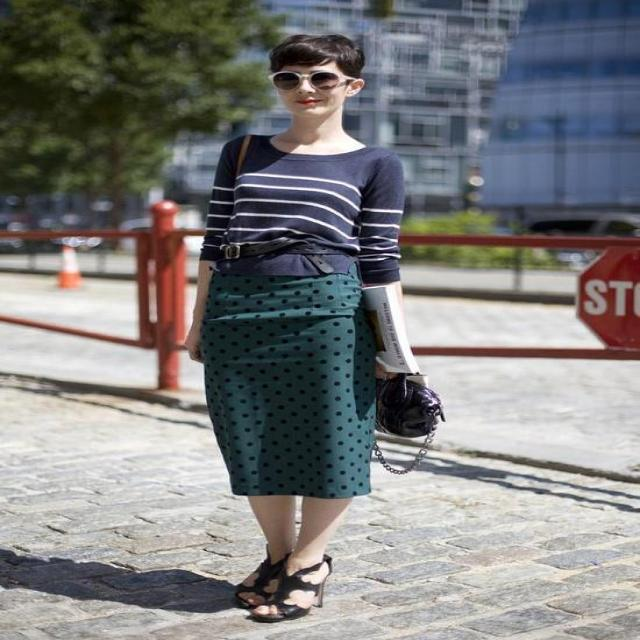Tshirt: (198, 134, 405, 282)
skirt: (197, 274, 409, 499)
